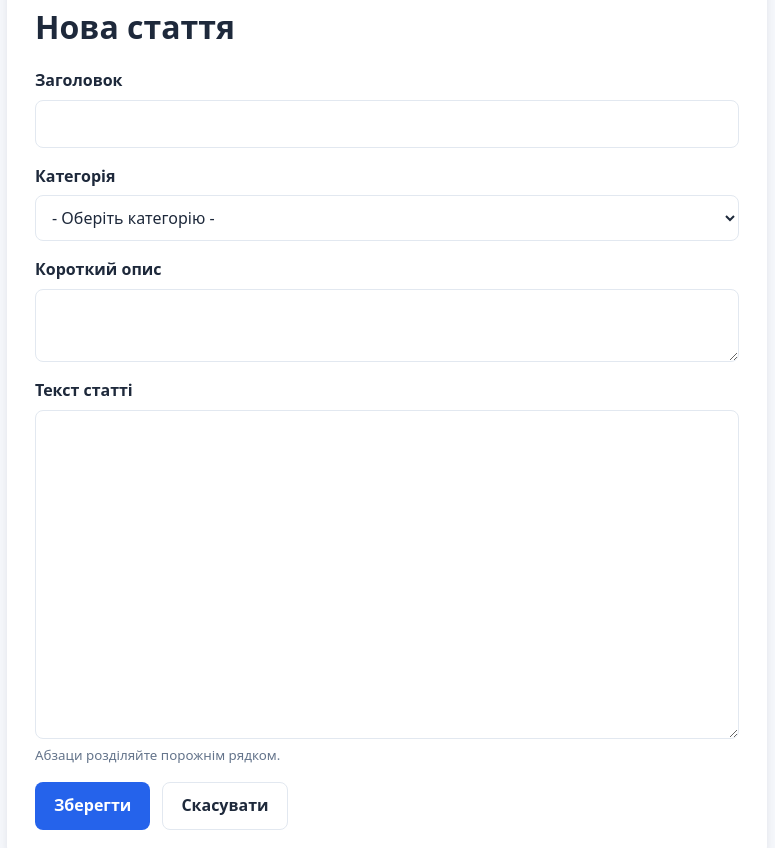
ArticleFormPage › не дозволяє зберегти статтю без категорії
In the field labelled "Заголовок": (387, 124) top-left (35, 100), bottom-right (739, 148), type "Нова тестова стаття"
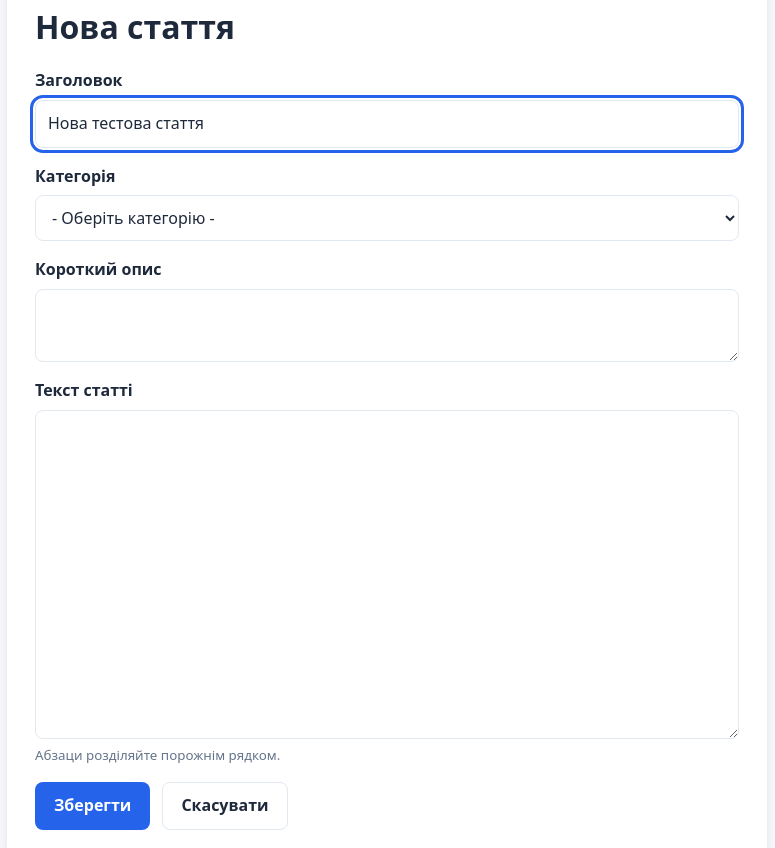
In the text box labelled "Короткий опис": (387, 325) top-left (35, 289), bottom-right (739, 362), type "Опис нової тестової статті"
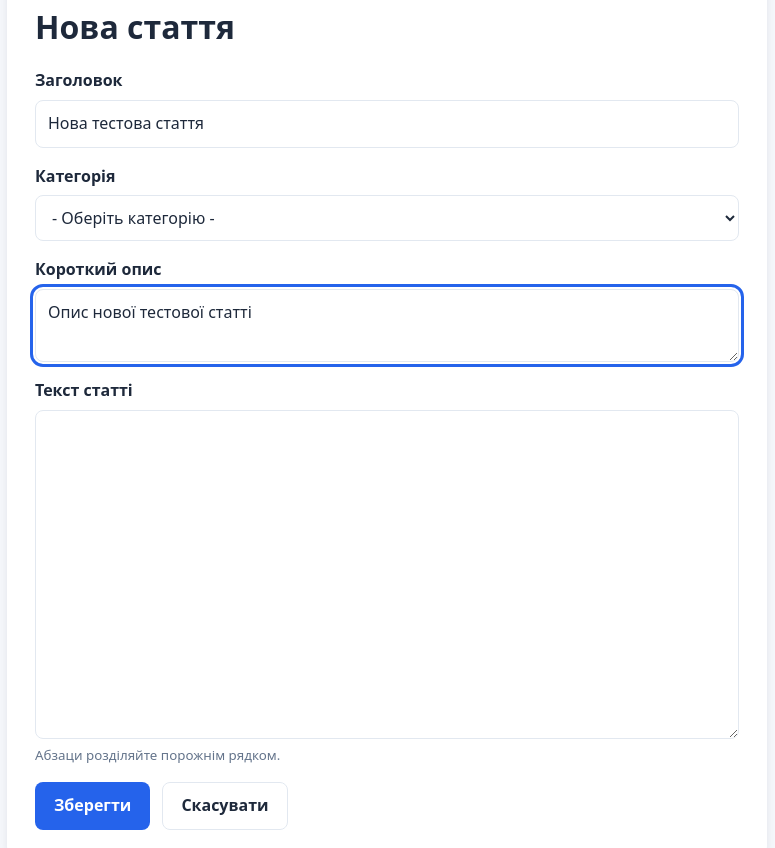
In the text box labelled "Текст статті": (387, 574) top-left (35, 410), bottom-right (739, 739), type "Текст нової тестової статті для перевірки"
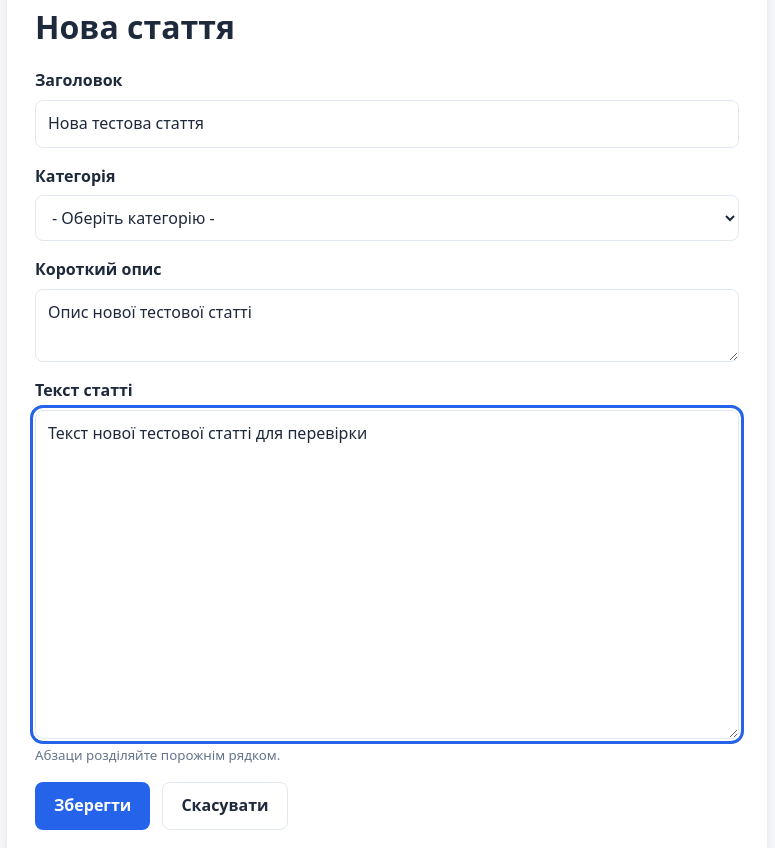
Click the button "Зберегти": (93, 806) top-left (35, 782), bottom-right (150, 830)
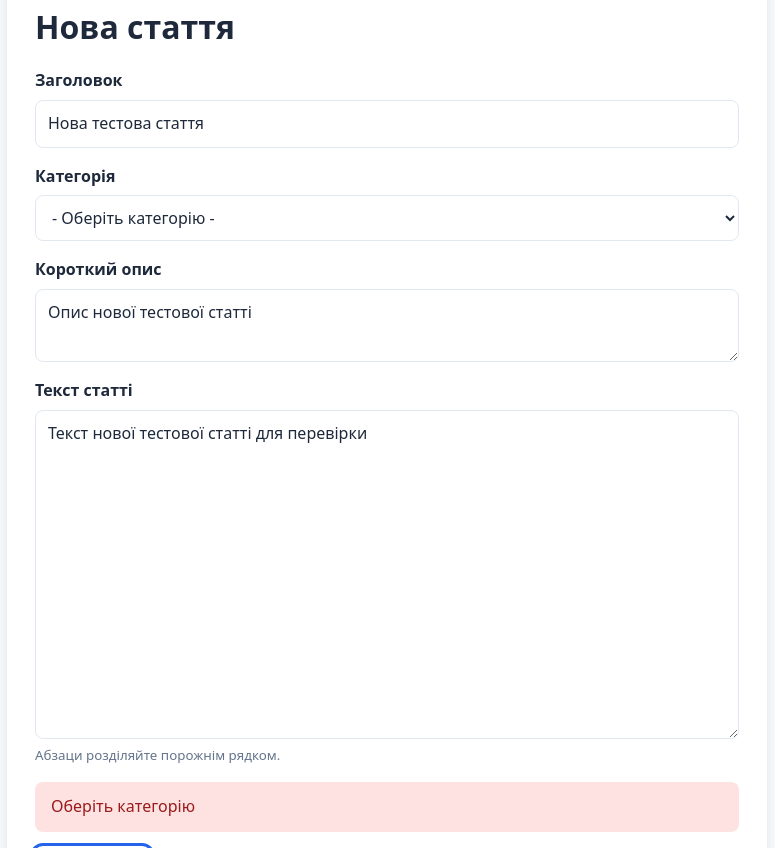
Now the message reads "Оберіть категорію", box top-left (51, 795), bottom-right (195, 817)
